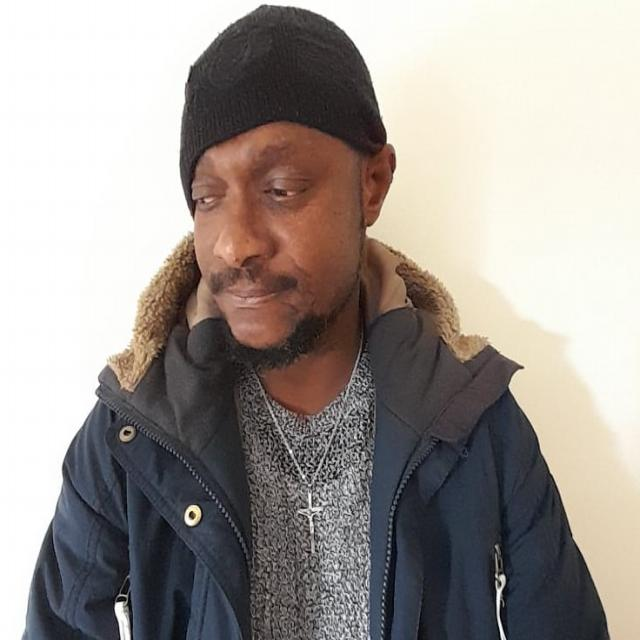sad: (178, 10, 394, 377)
